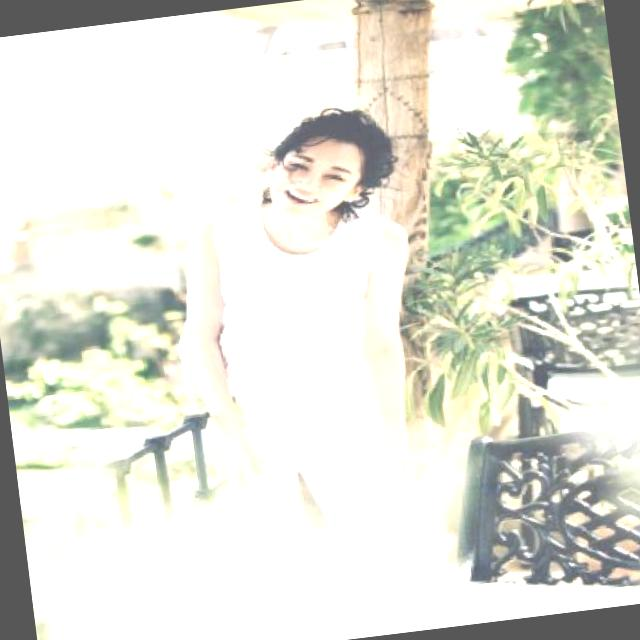Person: (185, 81, 478, 568)
